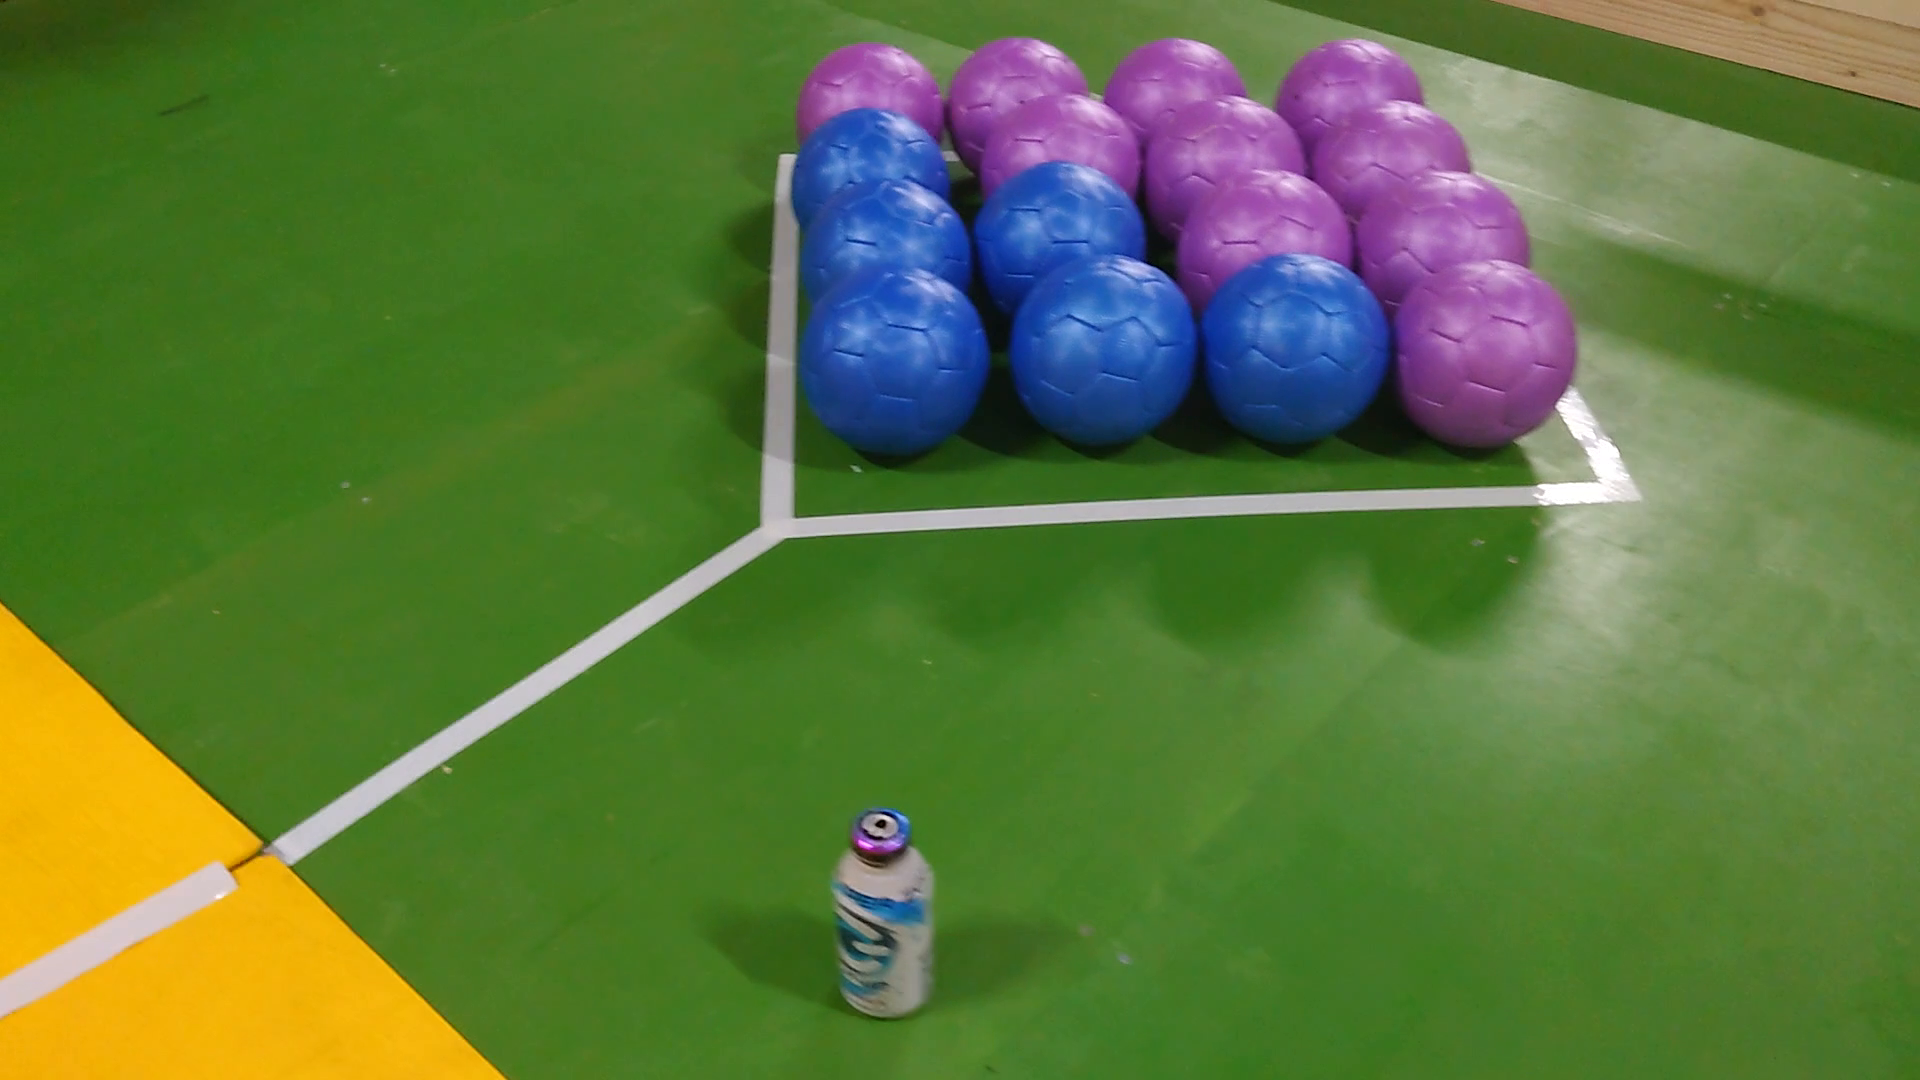blue: (1013, 252, 1201, 454), (1199, 252, 1387, 444), (803, 268, 982, 458), (980, 157, 1146, 277), (800, 179, 967, 284), (787, 111, 944, 215)
purple: (1394, 255, 1575, 444), (1143, 91, 1305, 225), (1175, 164, 1352, 284), (1356, 170, 1531, 284), (969, 91, 1143, 196), (1309, 98, 1473, 196), (944, 36, 1091, 140), (1274, 36, 1433, 131), (796, 42, 940, 140), (1100, 36, 1244, 131)
